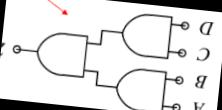and: (29, 27, 92, 81), (117, 8, 175, 62), (110, 63, 168, 110)
